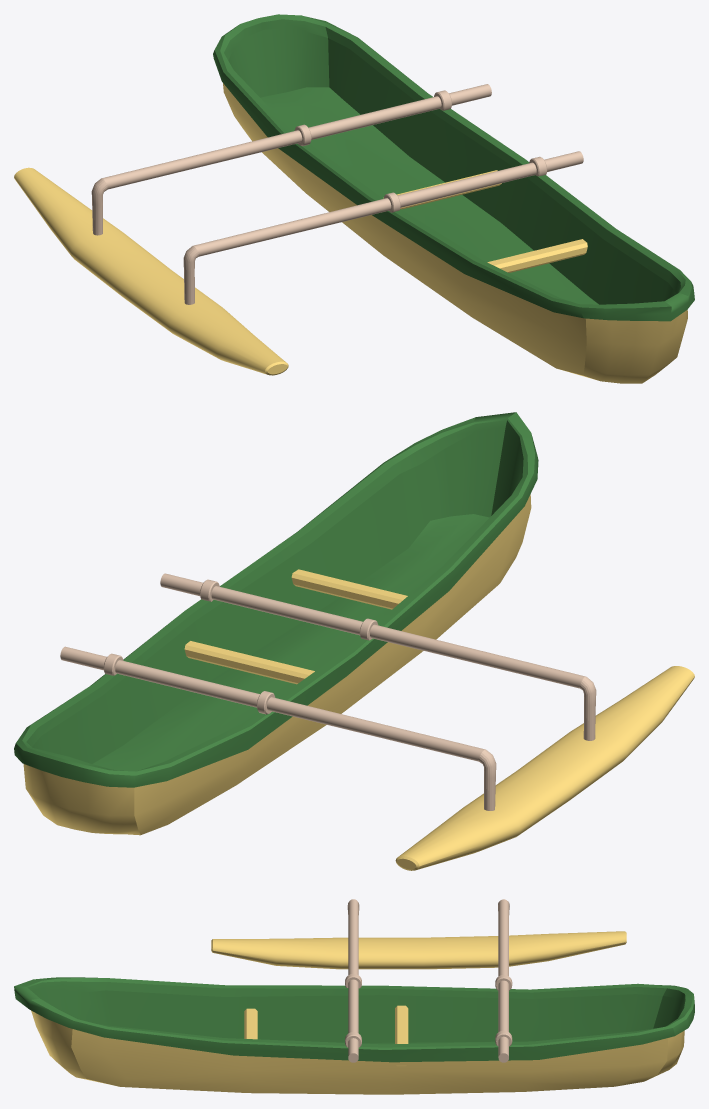
File: outrigger canoe.fbx
3 renders of one model, top to bottom at view 1: azimuth 30°, elevation 25°; view 2: azimuth 150°, elevation 25°; view 3: azimuth 270°, elevation 25°, orthographic. The views are drawn at different scales.
Parts seen in each view (by area): view 1: models_f19:models_f18:models_f17:models_f16:models_f15:model (×5); view 2: models_f19:models_f18:models_f17:models_f16:models_f15:model (×6); view 3: models_f19:models_f18:models_f17:models_f16:models_f15:model (×6).
Part boxes in pixels (<box>): models_f19:models_f18:models_f17:models_f16:models_f15:model (×5): <box>14,14,694,383</box>; models_f19:models_f18:models_f17:models_f16:models_f15:model (×6): <box>14,412,694,870</box>; models_f19:models_f18:models_f17:models_f16:models_f15:model (×6): <box>14,899,694,1094</box>.
Size of the model in its own units: 6.14 by 1.54 by 10.57.
